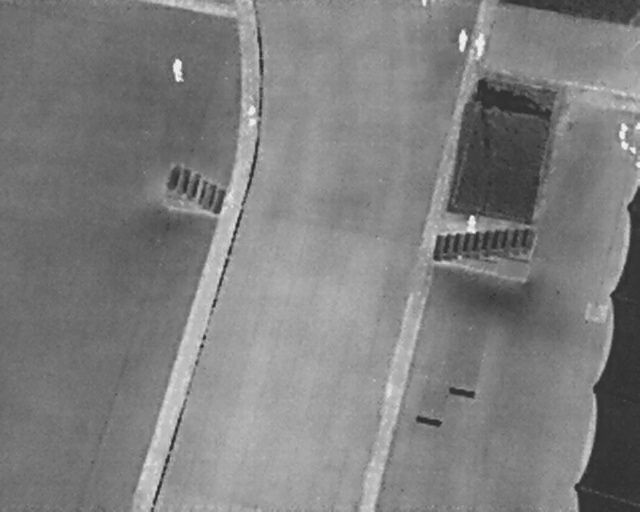Person: (473, 31, 487, 61), (245, 103, 259, 126), (457, 25, 468, 53), (172, 56, 183, 81), (468, 213, 477, 234)
